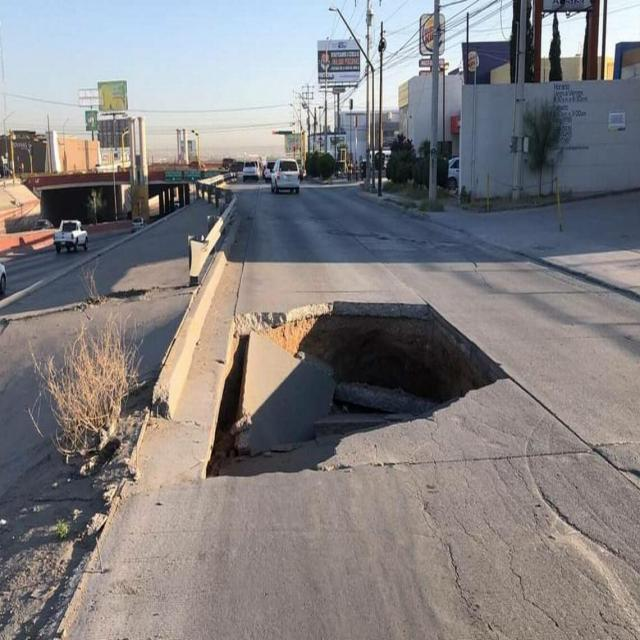Pothole: (193, 285, 528, 505)
